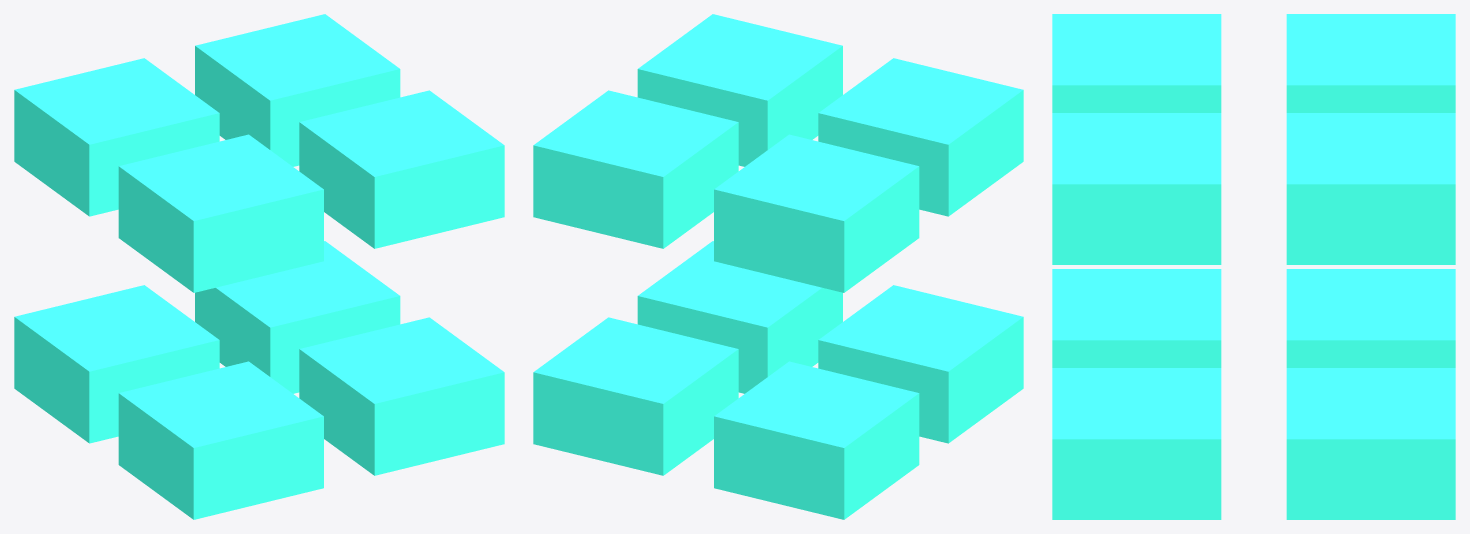
File: nexah-life-orbit-block-p1.glb
3 views of the same model, side by side, from view 1: azimuth 30°, elevation 25°; view 2: azimuth 150°, elevation 25°; view 3: azimuth 270°, elevation 25° (orthographic). The views are drawn at different scales.
Visible parts, largest first — view 1: cell_t000_x05_y06, cell_t001_x05_y06, cell_t000_x06_y06, cell_t001_x06_y06, cell_t000_x05_y05, cell_t001_x05_y05, cell_t001_x06_y05, cell_t000_x06_y05; view 2: cell_t000_x05_y05, cell_t001_x05_y05, cell_t000_x06_y05, cell_t001_x06_y05, cell_t000_x05_y06, cell_t001_x05_y06, cell_t001_x06_y06, cell_t000_x06_y06; view 3: cell_t000_x06_y05, cell_t000_x06_y06, cell_t001_x06_y05, cell_t001_x06_y06, cell_t000_x05_y05, cell_t000_x05_y06, cell_t001_x05_y05, cell_t001_x05_y06.
Part boxes in pixels (x1,y1,x2,y2): cell_t000_x05_y06: (118, 361, 323, 519); cell_t001_x05_y06: (118, 134, 323, 292); cell_t000_x06_y06: (299, 317, 504, 475); cell_t001_x06_y06: (299, 90, 504, 248); cell_t000_x05_y05: (14, 285, 219, 443); cell_t001_x05_y05: (14, 58, 219, 216); cell_t001_x06_y05: (195, 14, 400, 166); cell_t000_x06_y05: (195, 241, 400, 393); cell_t000_x05_y05: (714, 361, 919, 519); cell_t001_x05_y05: (714, 134, 919, 292); cell_t000_x06_y05: (533, 317, 738, 475); cell_t001_x06_y05: (533, 90, 738, 248); cell_t000_x05_y06: (818, 285, 1023, 443); cell_t001_x05_y06: (818, 58, 1023, 216); cell_t001_x06_y06: (637, 14, 842, 166); cell_t000_x06_y06: (637, 241, 842, 393); cell_t000_x06_y05: (1286, 368, 1455, 519); cell_t000_x06_y06: (1052, 368, 1221, 519); cell_t001_x06_y05: (1286, 113, 1455, 264); cell_t001_x06_y06: (1052, 113, 1221, 264); cell_t000_x05_y05: (1286, 269, 1455, 367); cell_t000_x05_y06: (1052, 269, 1221, 367); cell_t001_x05_y05: (1286, 14, 1455, 112); cell_t001_x05_y06: (1052, 14, 1221, 112).
Size of the model in its own units: 1.72 by 1.58 by 1.72.
